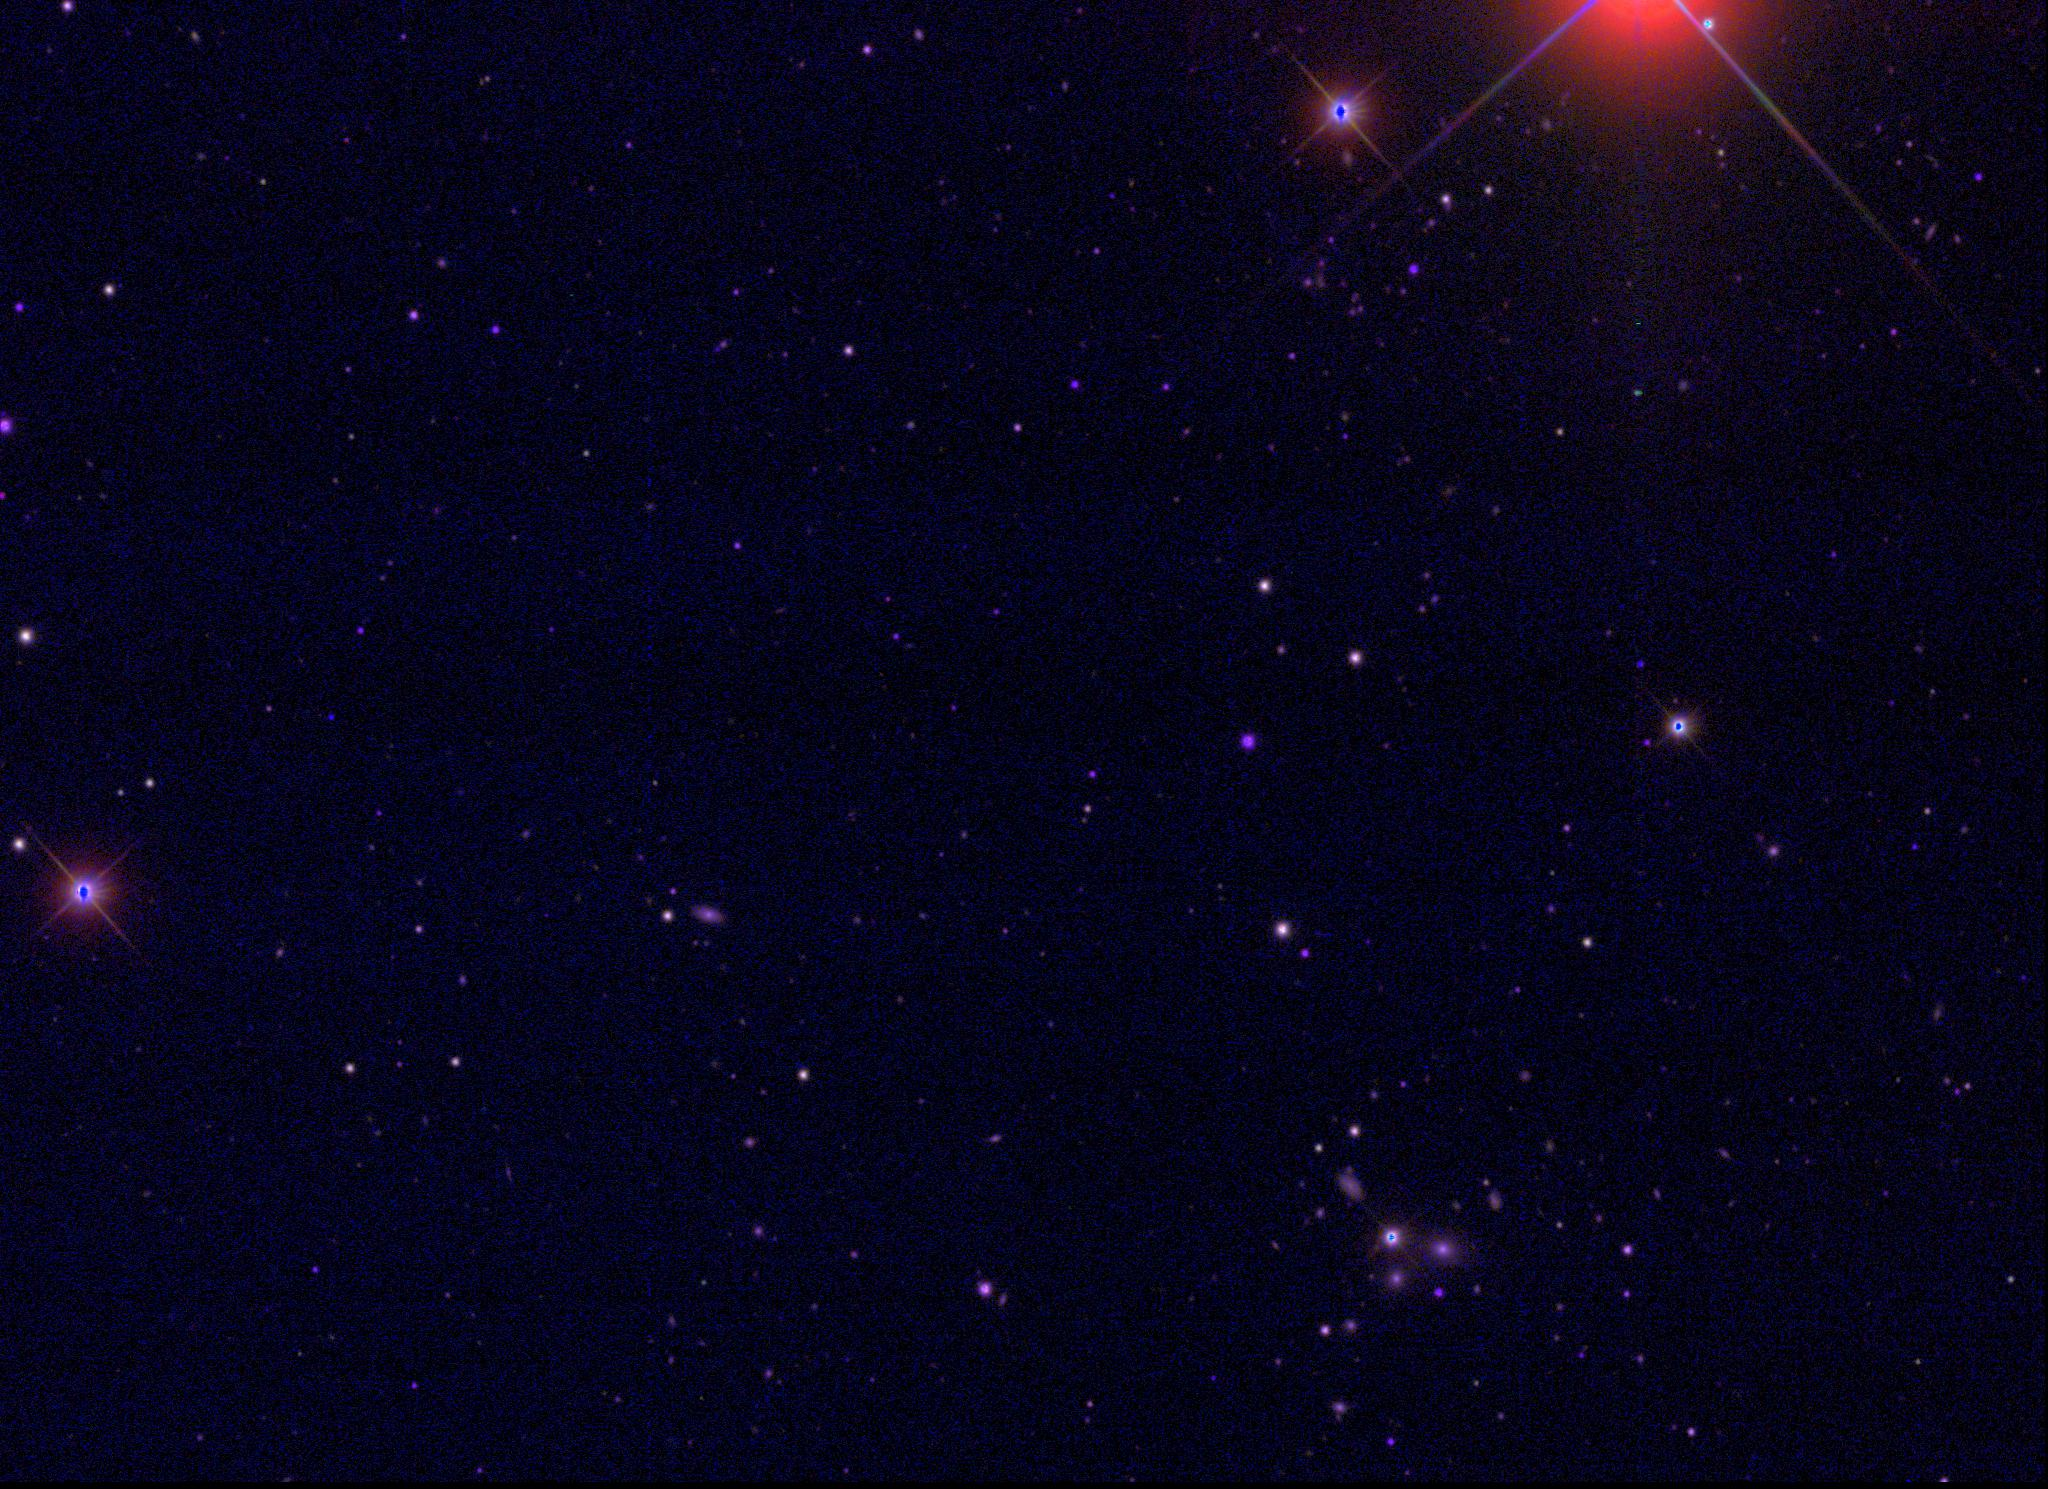L: (324, 711, 339, 725)
